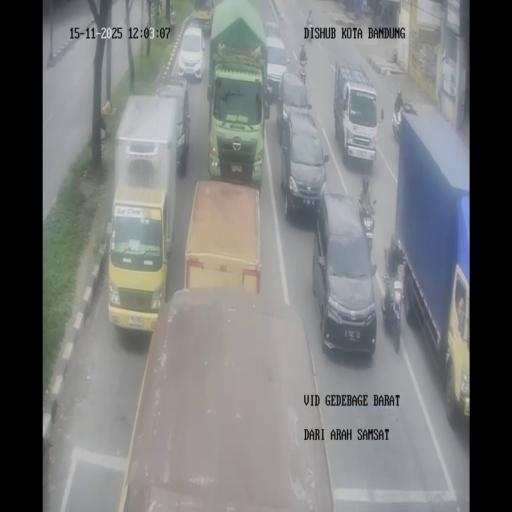car: (312, 194, 376, 357), (279, 108, 326, 222), (177, 25, 205, 81), (264, 30, 286, 100), (190, 0, 214, 33), (264, 20, 280, 38)
motorcycle: (380, 264, 404, 353), (358, 200, 375, 256), (392, 105, 402, 141), (298, 54, 308, 85), (304, 19, 314, 38)
truck: (390, 112, 469, 426), (106, 93, 184, 334), (206, 0, 269, 188), (183, 178, 264, 297), (334, 60, 378, 170)
